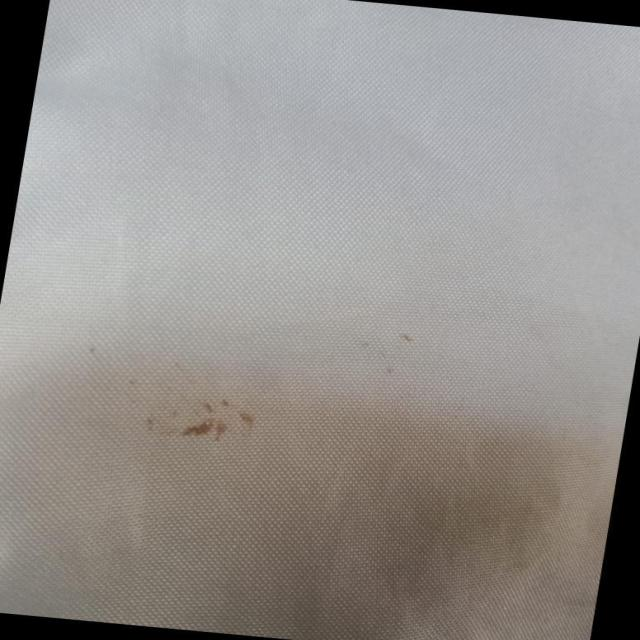stain: (247, 419, 588, 640), (144, 376, 258, 449)
